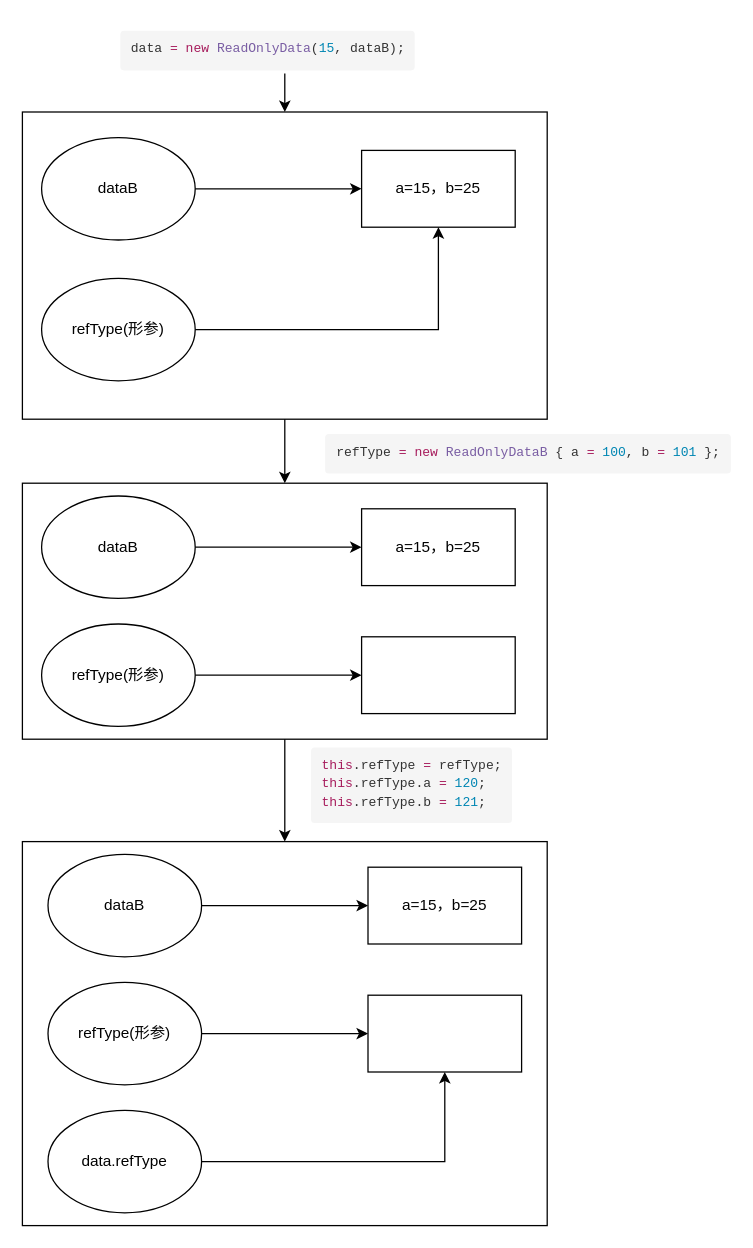
This 753x1248 diagram has some shape labels left out. Each missing label, with the centre of its shape:
"a=100，b=101" belongs at (x=437, y=675).
"a=120，b=121" belongs at (x=444, y=1033).
